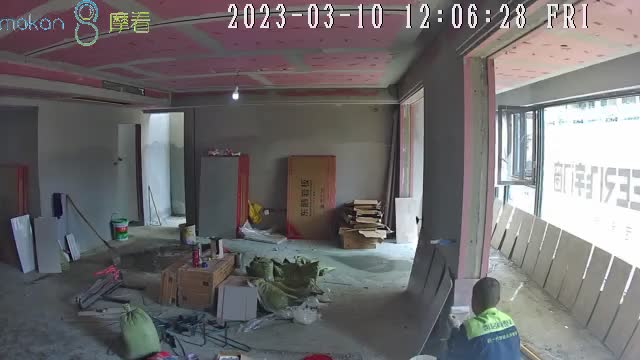people: (450, 277, 522, 360)
window: (499, 93, 640, 270)
